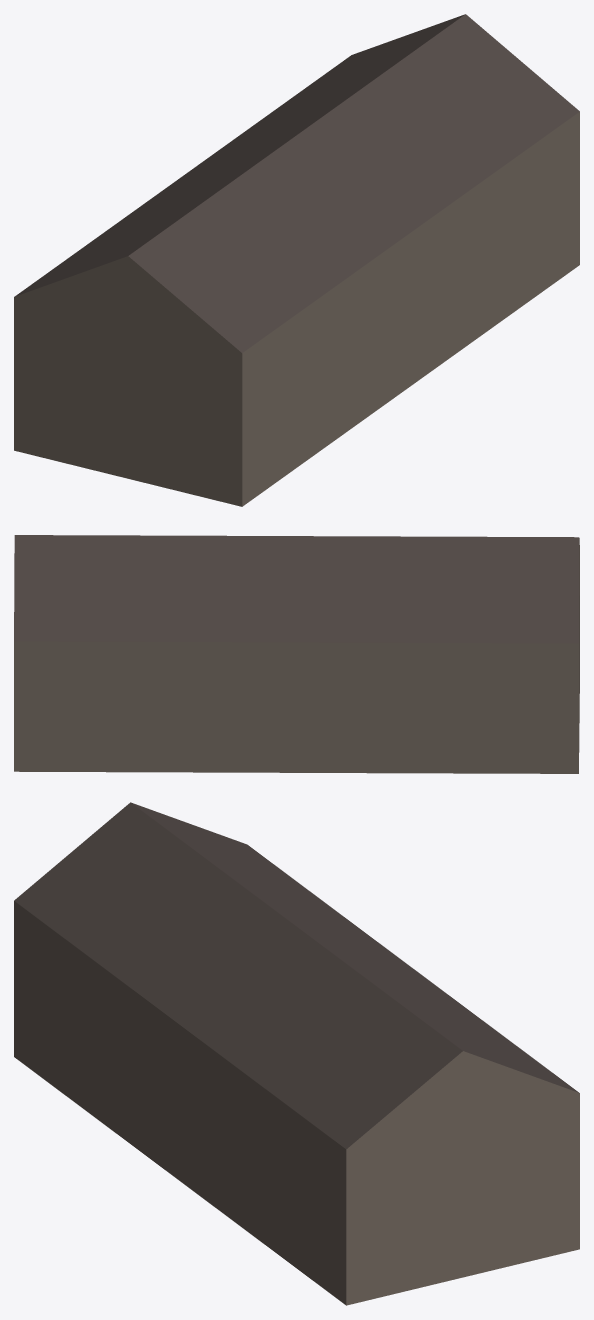
3 renders of one model, top to bottom at view 1: azimuth 30°, elevation 25°; view 2: azimuth 150°, elevation 25°; view 3: azimuth 270°, elevation 25°, orthographic. The views are drawn at different scales.
Parts seen in each view (by area): view 1: HP-w369317537; view 2: HP-w369317537; view 3: HP-w369317537.
Part boxes in pixels (x1=…): HP-w369317537: x1=14, y1=14, x2=579, y2=506; HP-w369317537: x1=14, y1=535, x2=579, y2=773; HP-w369317537: x1=14, y1=802, x2=579, y2=1305.
Size of the model in its own units: 25.14 by 8.7 by 19.71.
